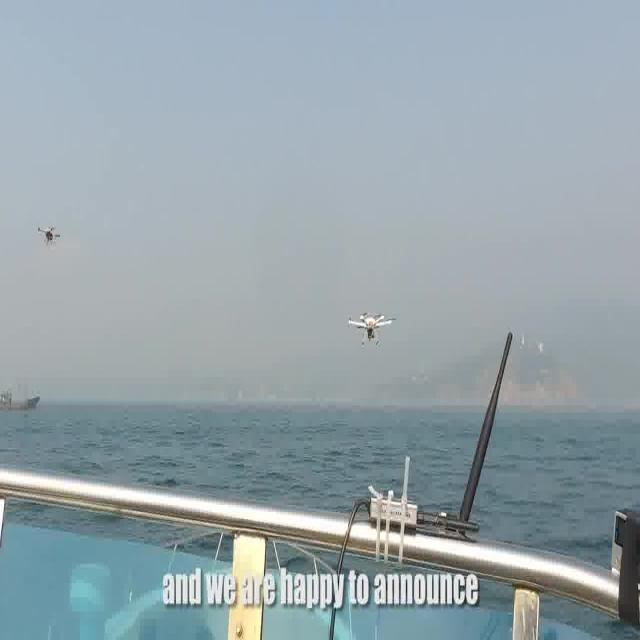drones: (340, 298, 398, 359), (34, 215, 64, 255)
